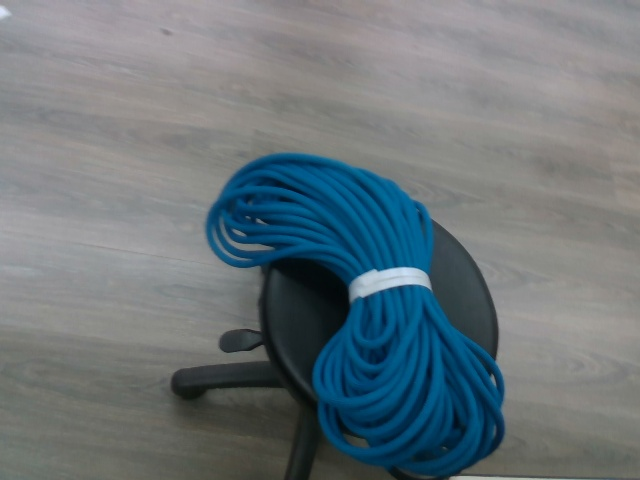rope: (202, 145, 514, 480)
